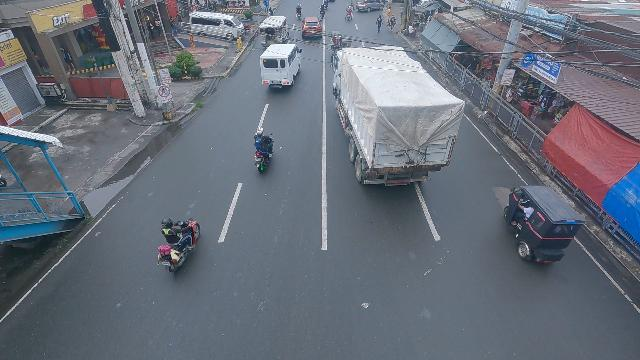car: (301, 17, 324, 40), (356, 0, 385, 12)
jeepney: (258, 15, 288, 48)
motorcycle: (157, 216, 202, 272), (252, 126, 277, 174), (295, 3, 302, 19), (345, 6, 353, 20), (319, 3, 325, 18)
truck: (330, 49, 467, 194)
van: (260, 42, 303, 91), (187, 11, 243, 42)
